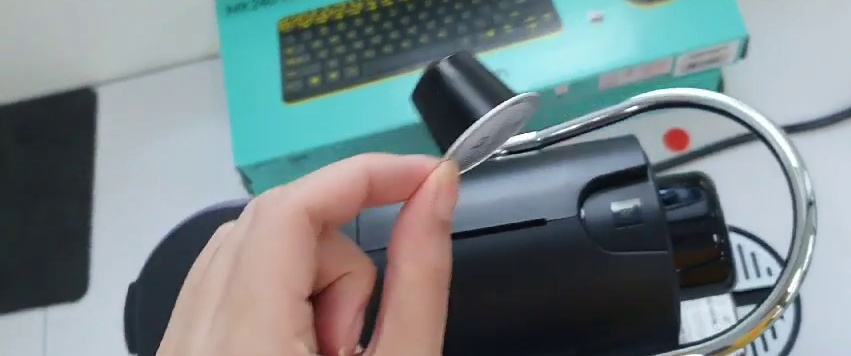capsule_10: (407, 50, 541, 178)
